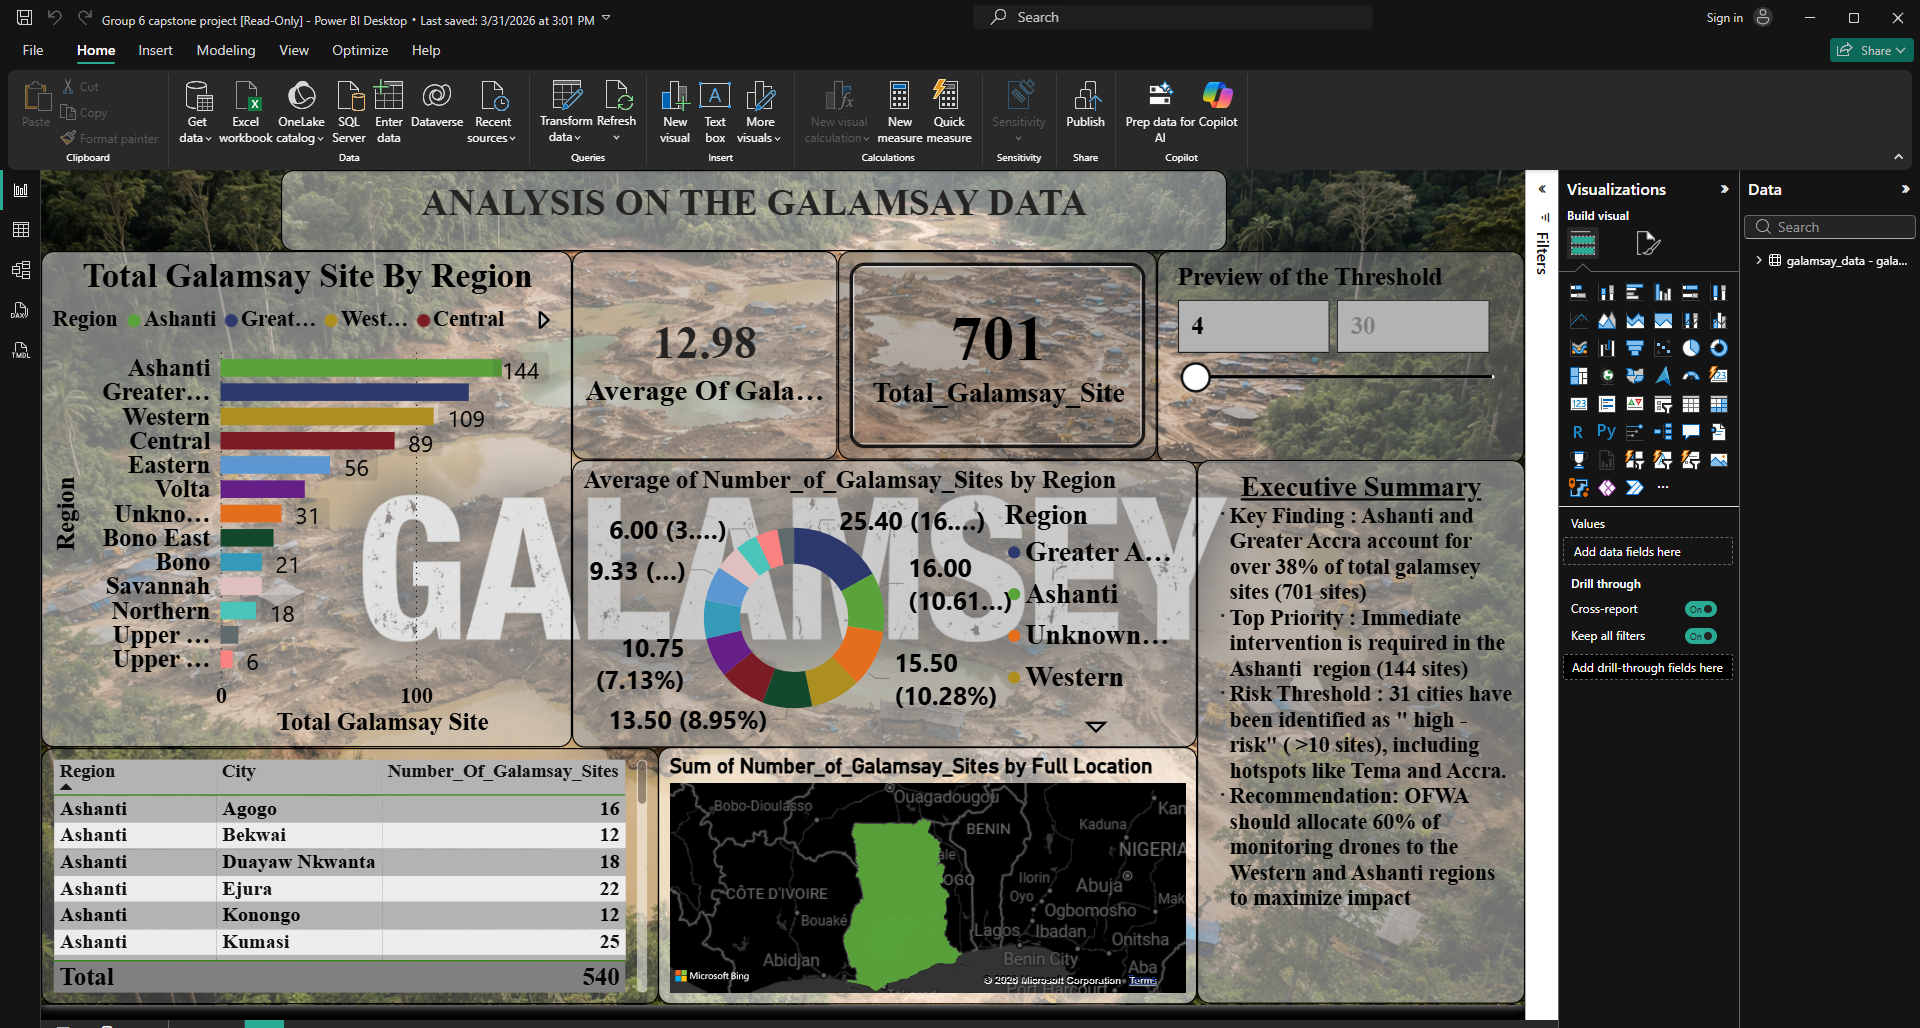

The dashboard page shown, as its layout file describes it:
{"tool":"powerbi","page":{"name":"Page 1","canvas":[1280,720],"ordinal":0},"visuals":[{"type":"textbox","box":[207.2,0,816.5,70.2],"z":0},{"type":"barChart","title":"WHAT IS THE TOTAL GALAMSEY SITES PER REGIONS AND CITIES?","fields":{"Category":["galamsay_data - galamsay_data csv.Region","galamsay_data - galamsay_data csv.City"],"Y":["Sum(galamsay_data - galamsay_data csv.Number_of_Galamsay_Sites)"],"Series":["galamsay_data - galamsay_data csv.Region"]},"box":[0,69.9,458,427.8],"z":1000},{"type":"cardVisual","fields":{"Data":["galamsay_data - galamsay_data csv.Total_Galamsay_Site"]},"box":[687.4,69.9,275.1,180.3],"z":2000},{"type":"tableEx","fields":{"Values":["galamsay_data - galamsay_data csv.Region","galamsay_data - galamsay_data csv.City","Sum(galamsay_data - galamsay_data csv.Number_of_Galamsay_Sites)"]},"box":[0,498.8,532.6,220.7],"z":3000},{"type":"slicer","fields":{"Values":["galamsay_data - galamsay_data csv.Number_of_Galamsay_Sites"]},"box":[963,70.1,317,182.7],"z":4000},{"type":"filledMap","fields":{"Category":["galamsay_data - galamsay_data csv.Full Location"]},"box":[532.6,497.3,464.9,222.2],"z":5000},{"type":"donutChart","fields":{"Category":["galamsay_data - galamsay_data csv.Region"],"Y":["Avg(galamsay_data - galamsay_data csv.Number_of_Galamsay_Sites)"]},"box":[458,250.1,539.1,248.4],"z":6000},{"type":"card","fields":{"Values":["Avg(galamsay_data - galamsay_data csv.Number_of_Galamsay_Sites)"]},"box":[458,69.9,229.4,180.3],"z":7000},{"type":"textbox","box":[997.1,250.1,282.9,469.2],"z":8000}]}

Visuals, with their boxes on the page's 1280x720 design canvas (x1, y1, x2, y2). These are canvas units, not pixel positions in the 1920x1028 screenshot, which may show the page scaled, cropped or inside an application window:
textbox: box(207, 0, 1024, 70)
"WHAT IS THE TOTAL GALAMSEY SITES PER REGIONS AND CITIES?" barChart: box(0, 70, 458, 498)
cardVisual - galamsay_data - galamsay_data csv.Total_Galamsay_Site: box(687, 70, 962, 250)
tableEx - galamsay_data - galamsay_data csv.Region x galamsay_data - galamsay_data csv.City: box(0, 499, 533, 720)
slicer - galamsay_data - galamsay_data csv.Number_of_Galamsay_Sites: box(963, 70, 1280, 253)
filledMap - galamsay_data - galamsay_data csv.Full Location: box(533, 497, 998, 720)
donutChart - galamsay_data - galamsay_data csv.Region x Avg(galamsay_data - galamsay_data csv.Number_of_Galamsay_Sites): box(458, 250, 997, 498)
card - Avg(galamsay_data - galamsay_data csv.Number_of_Galamsay_Sites): box(458, 70, 687, 250)
textbox: box(997, 250, 1280, 719)
